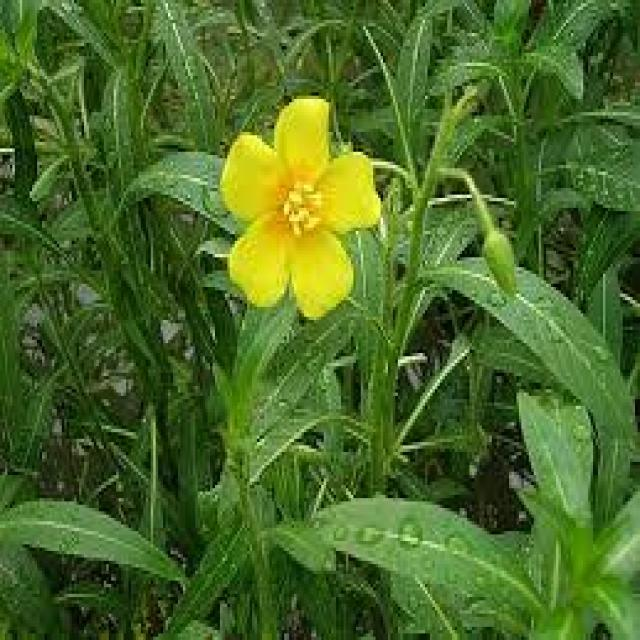organic waste: (218, 89, 386, 337)
